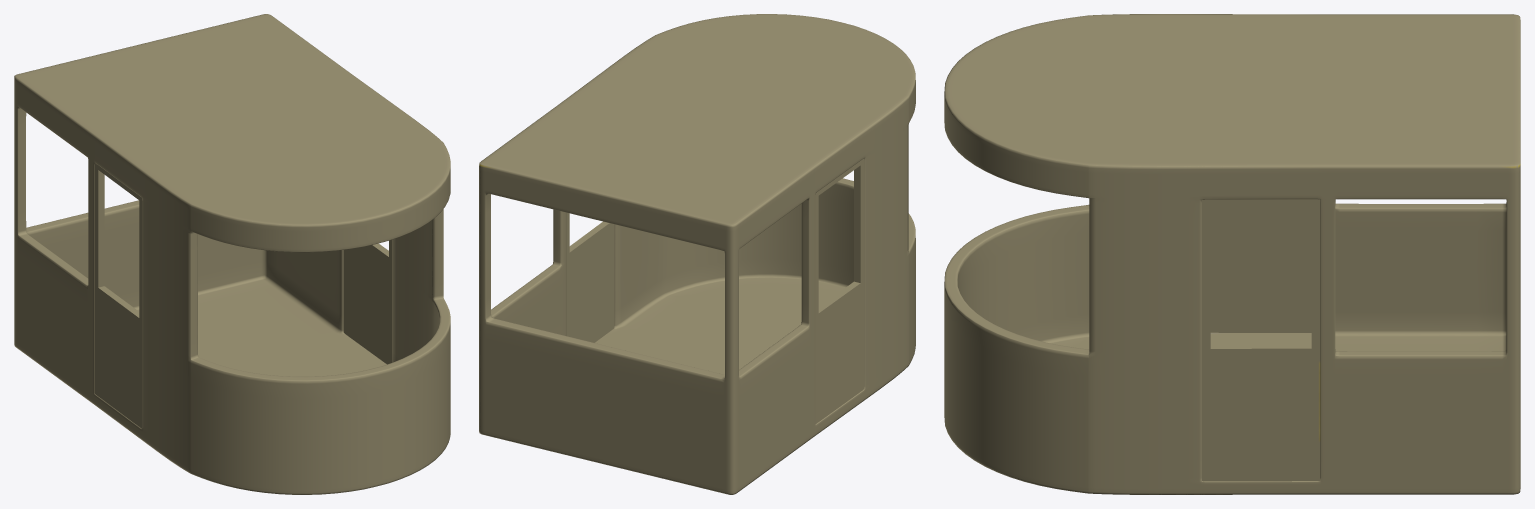
The model's file is Guardiola.fbx.
The picture shows the model from 3 angles, left to right: view 1: azimuth 30°, elevation 25°; view 2: azimuth 150°, elevation 25°; view 3: azimuth 270°, elevation 25°; orthographic projection. The views are drawn at different scales.
Visible parts, largest first — view 1: Guardiola; view 2: Guardiola; view 3: Guardiola.
Boxes of the visible parts, x1,y1,x2,y2 form: Guardiola: (14, 14, 450, 494); Guardiola: (479, 14, 915, 494); Guardiola: (944, 14, 1520, 494).
Size of the model in its own units: 299 by 300 by 476.
